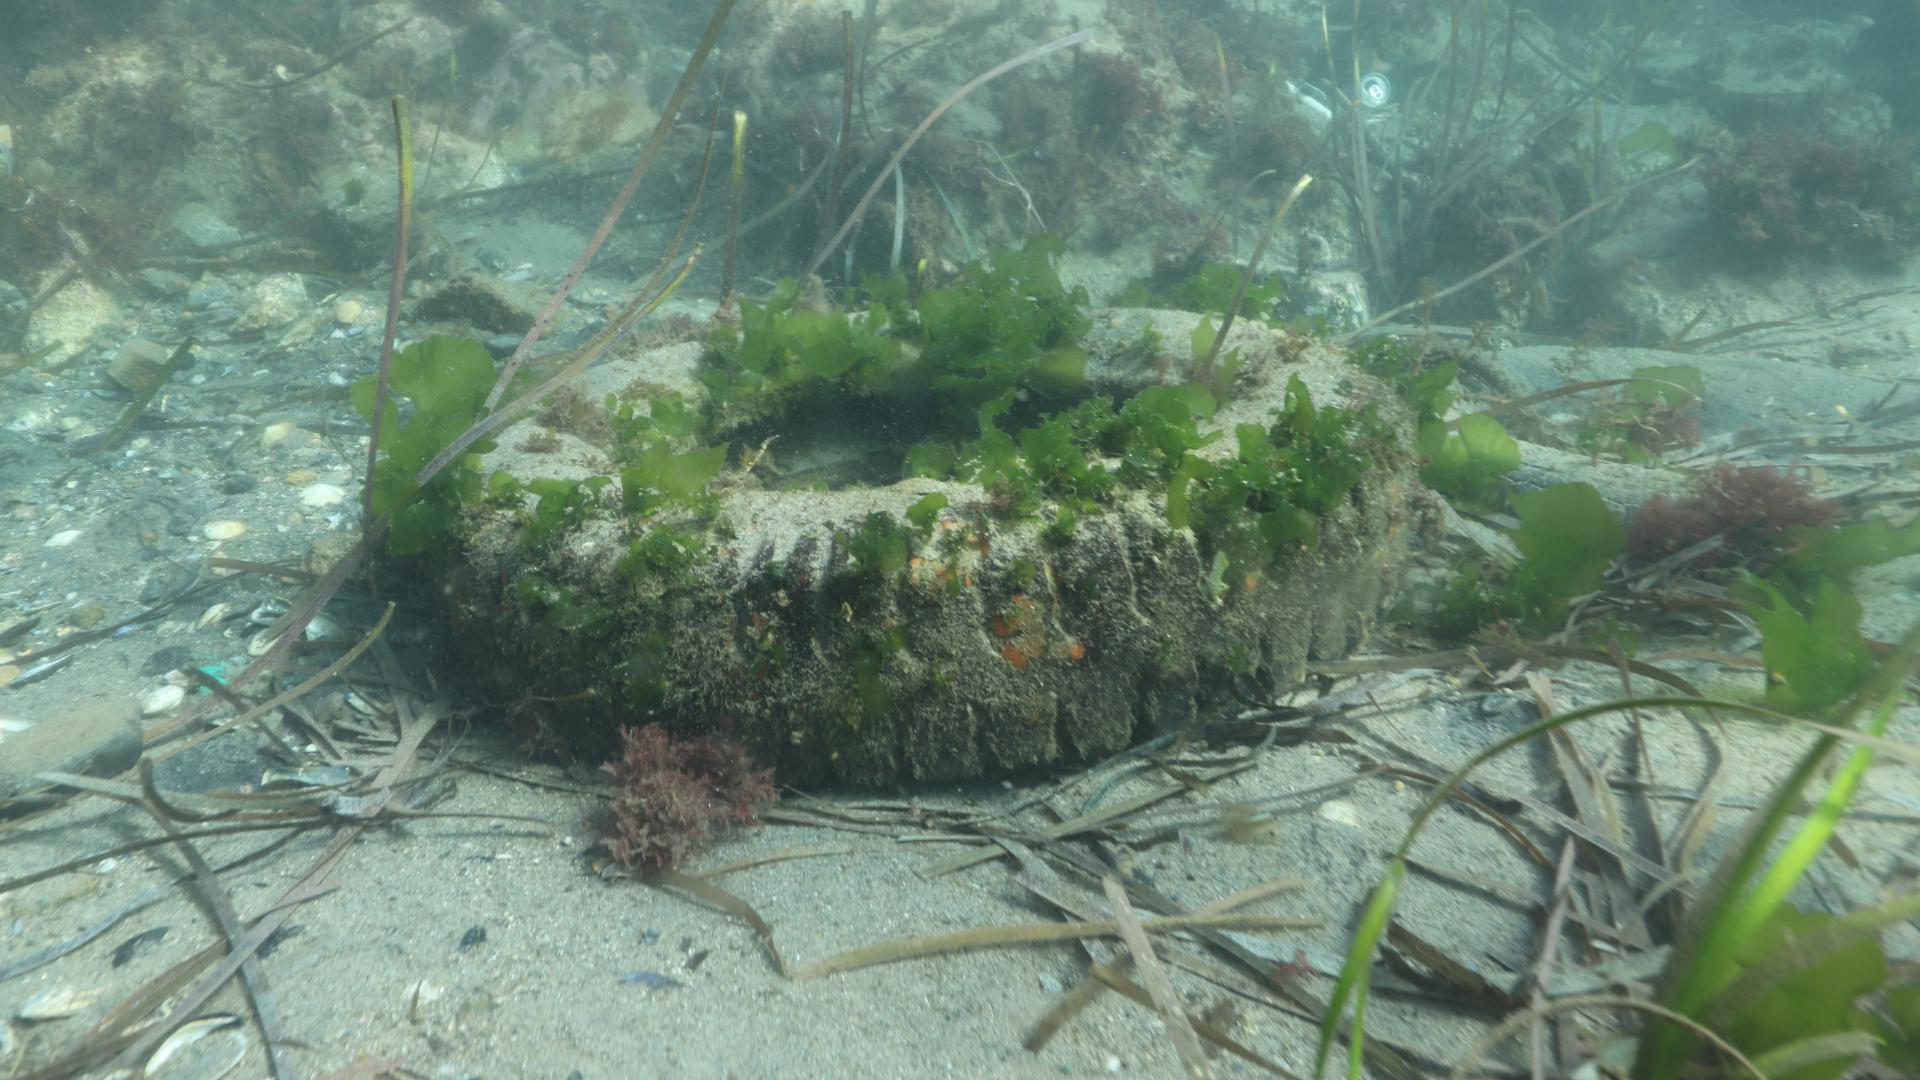rope: (1420, 338, 1540, 425)
tire: (440, 305, 1418, 798)
